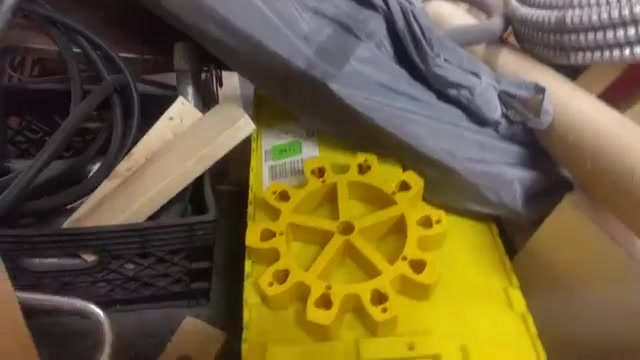gear: (234, 140, 460, 344)
